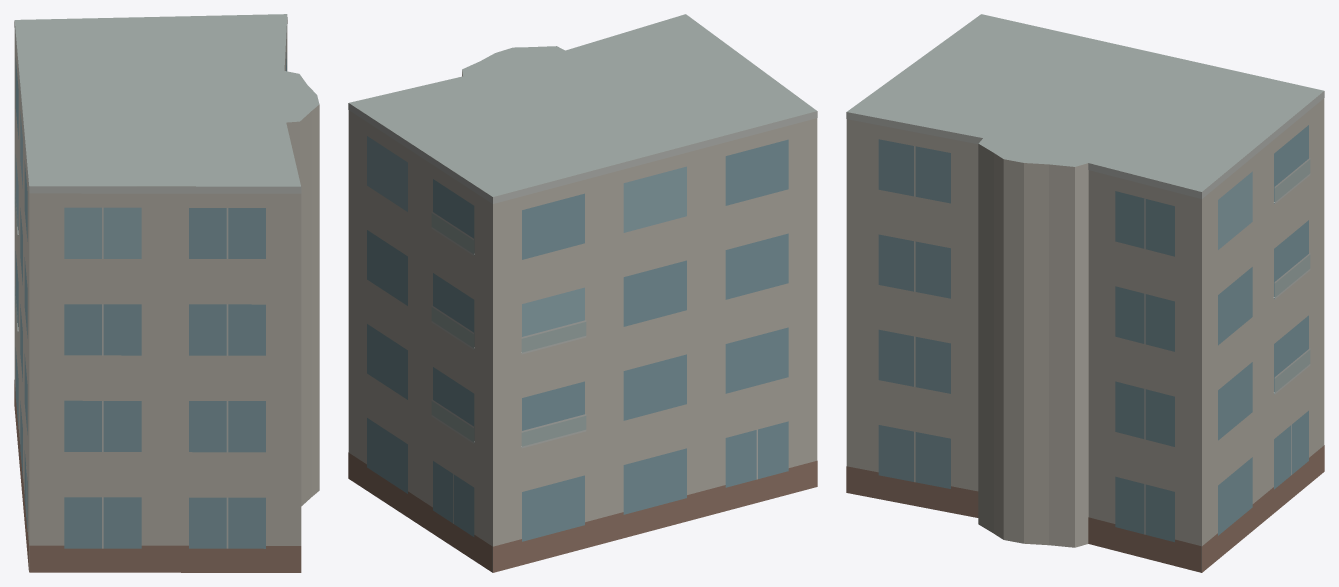
The model's file is survey-upis-32733912.glb.
3 views of the same model, side by side, from view 1: azimuth 30°, elevation 25°; view 2: azimuth 150°, elevation 25°; view 3: azimuth 270°, elevation 25° (orthographic). The views are drawn at different scales.
Visible parts, largest first — view 1: survey-upis-32733912.tmp; view 2: survey-upis-32733912.tmp; view 3: survey-upis-32733912.tmp.
Part boxes in pixels (left/top/right/bottom): survey-upis-32733912.tmp: left=14, top=14, right=319, bottom=572; survey-upis-32733912.tmp: left=348, top=14, right=817, bottom=572; survey-upis-32733912.tmp: left=846, top=14, right=1324, bottom=572.
Size of the model in its own units: 13.15 by 13.1 by 14.91.
